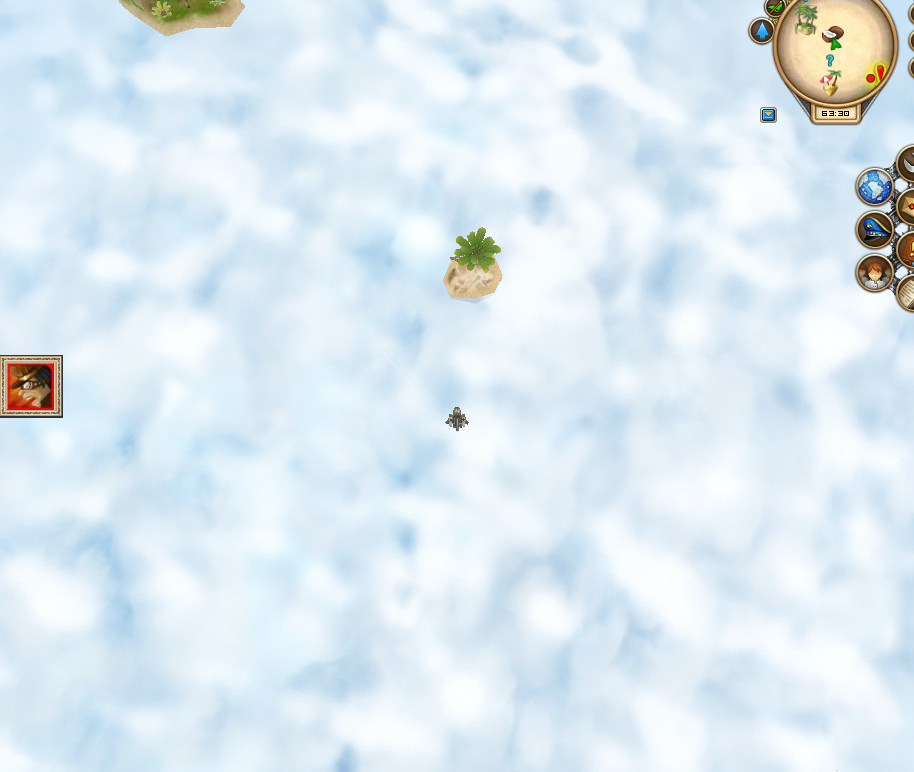palm: (436, 226, 508, 305)
